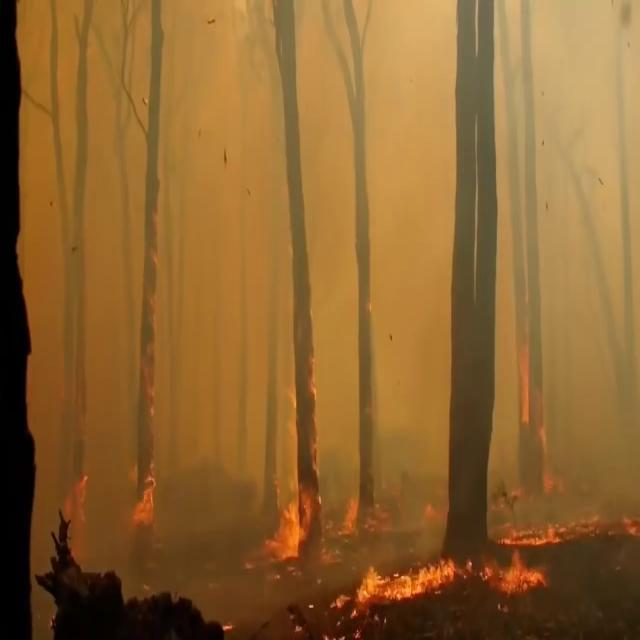Fire: (344, 532, 554, 614), (258, 451, 314, 576), (122, 450, 164, 536)
Smoke: (11, 0, 640, 572)
